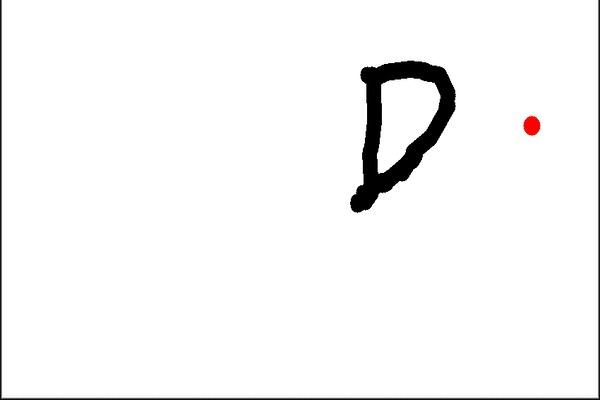D: (345, 56, 461, 215)
